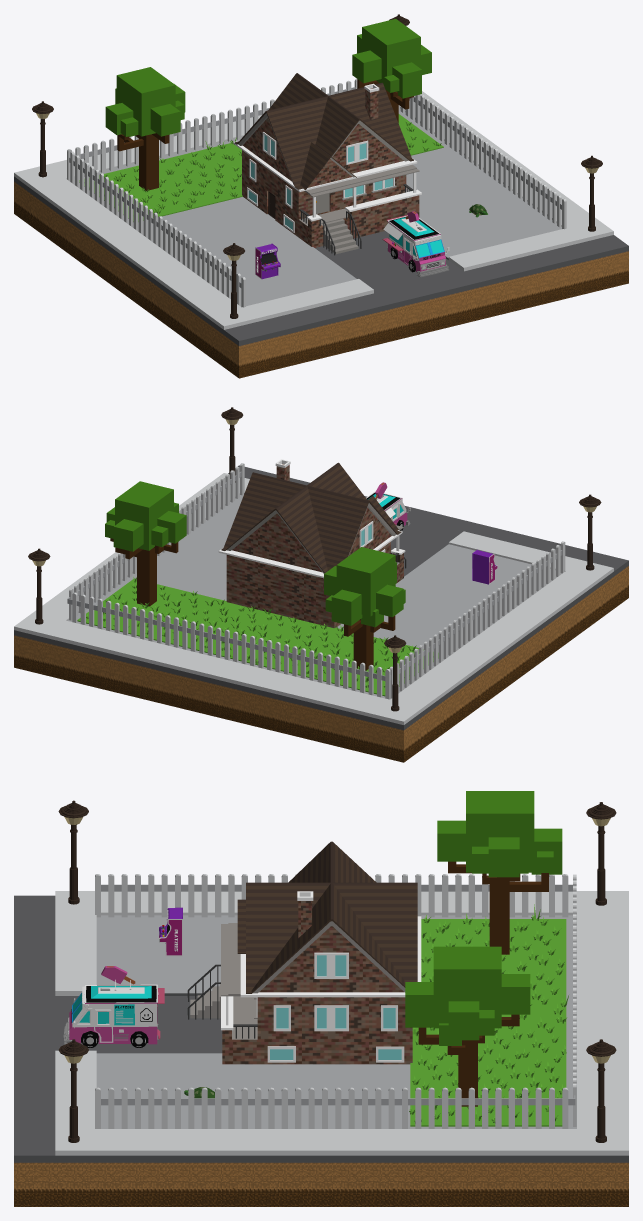
3 renders of one model, top to bottom at view 1: azimuth 30°, elevation 25°; view 2: azimuth 150°, elevation 25°; view 3: azimuth 270°, elevation 25°, orthographic. The views are drawn at different scales.
Visible parts, largest first — view 1: Cube.004, Cube.117, VEHICLES_ICE_CREAM_TRUCK, OBJRANDOM_ARCADE; view 2: Cube.004, Cube.117, VEHICLES_ICE_CREAM_TRUCK, OBJRANDOM_ARCADE; view 3: Cube.004, Cube.117, VEHICLES_ICE_CREAM_TRUCK, OBJRANDOM_ARCADE.
Boxes of the visible parts, bbox=[...] form: Cube.004: bbox=[14, 14, 628, 378]; Cube.117: bbox=[233, 73, 421, 255]; VEHICLES_ICE_CREAM_TRUCK: bbox=[382, 211, 449, 277]; OBJRANDOM_ARCADE: bbox=[255, 243, 280, 279]; Cube.004: bbox=[14, 407, 628, 762]; Cube.117: bbox=[218, 459, 406, 627]; VEHICLES_ICE_CREAM_TRUCK: bbox=[366, 482, 410, 530]; OBJRANDOM_ARCADE: bbox=[472, 549, 497, 584]; Cube.004: bbox=[14, 791, 628, 1206]; Cube.117: bbox=[187, 841, 421, 1064]; VEHICLES_ICE_CREAM_TRUCK: bbox=[63, 966, 164, 1047]; OBJRANDOM_ARCADE: bbox=[159, 907, 182, 956].
Bounding box in the file's own units: 4000 × 1551 × 4000.
49 materials, 5 textured.
